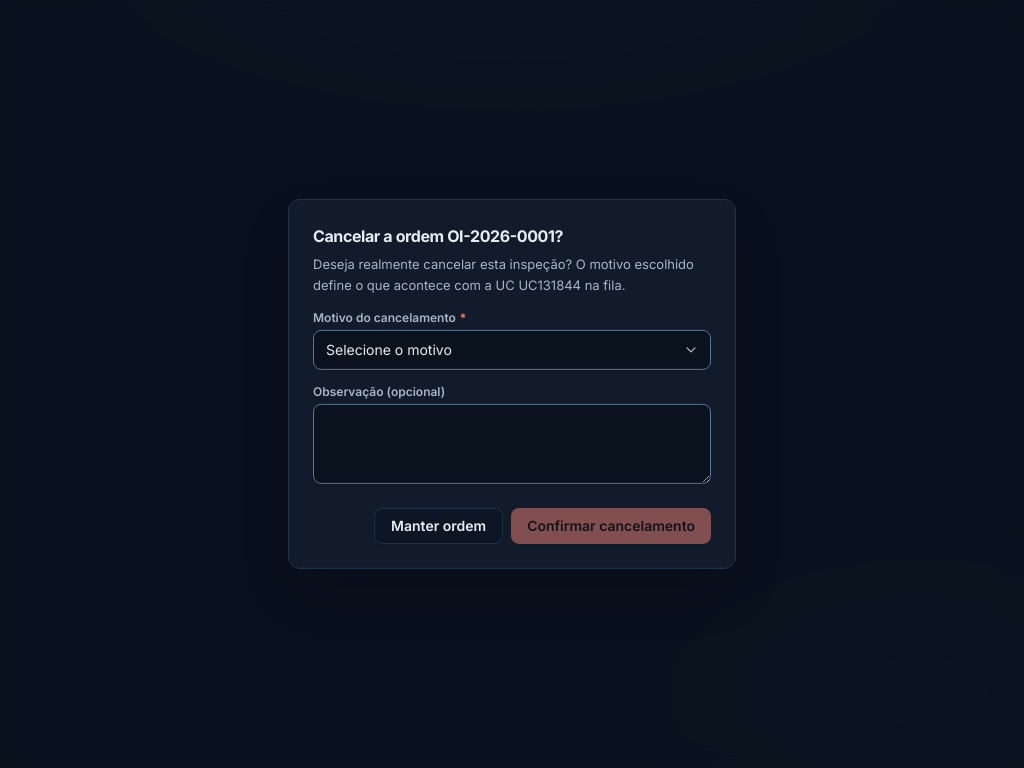
Test: CancelOrderDialog › lista os motivos do contrato tipado e só habilita a confirmação depois de escolher um
Expected: the button "Confirmar cancelamento" is disabled, [511, 508, 711, 544]
Expected: the text "Motivo do cancelamento*" is shown, [313, 310, 466, 325]
Select "Ordem duplicada" in the dropdown labelled "Motivo do cancelamento*" at (512, 350), box [313, 330, 711, 370]
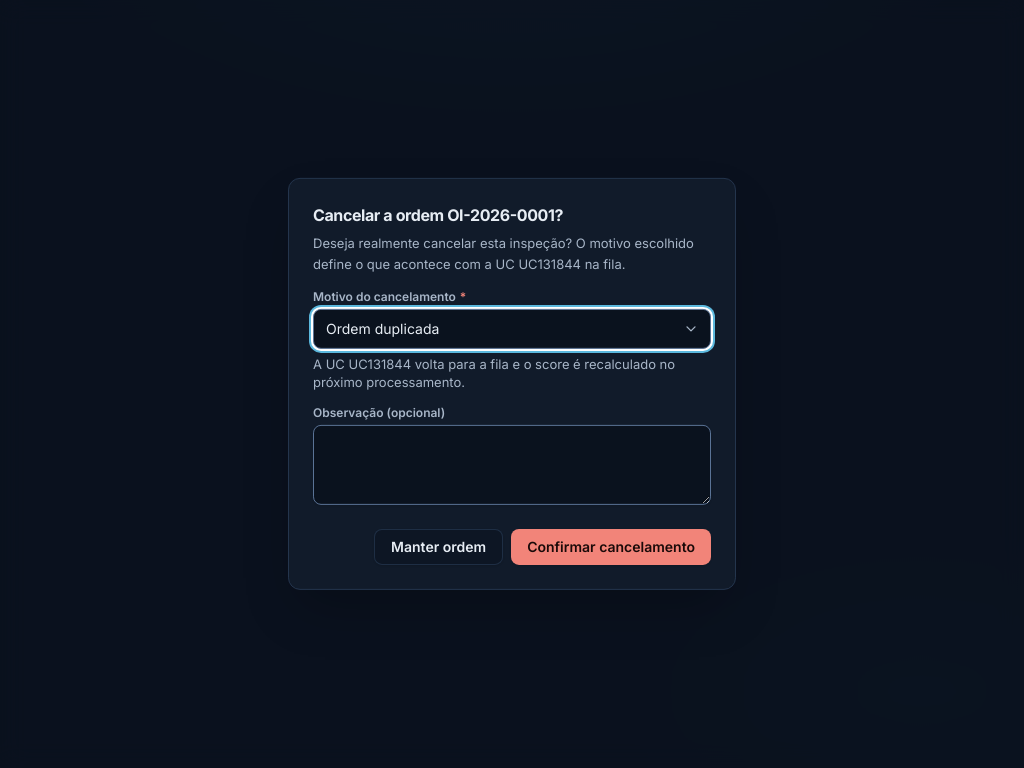
Now the button "Confirmar cancelamento" is enabled, box [511, 529, 711, 565]
